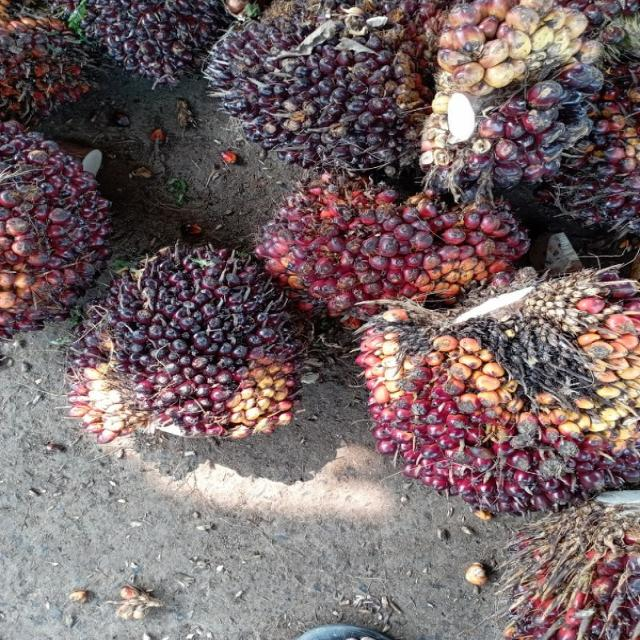fraksi 00: (66, 236, 302, 445), (411, 0, 618, 196), (210, 12, 432, 184)
fraksi 3: (349, 278, 640, 512), (254, 167, 532, 319)
